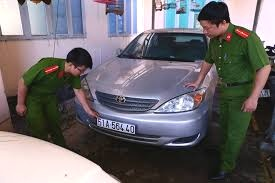Bien-so: (95, 119, 134, 138)
